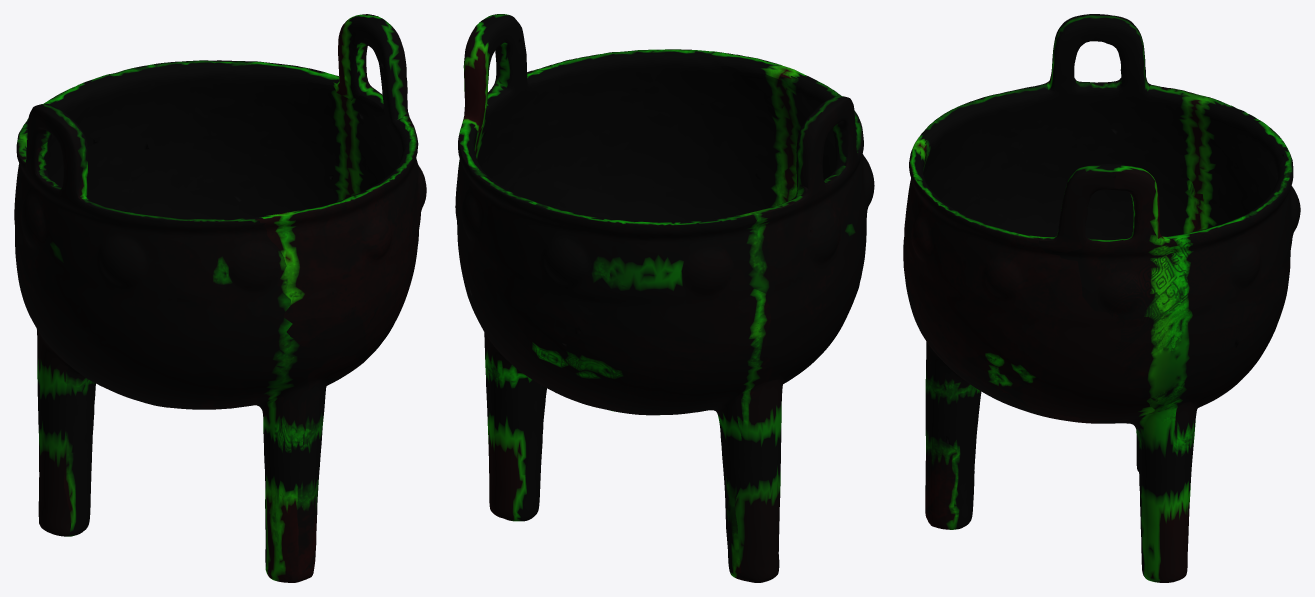
3 views of the same model, side by side, from view 1: azimuth 30°, elevation 25°; view 2: azimuth 150°, elevation 25°; view 3: azimuth 270°, elevation 25° (orthographic). The views are drawn at different scales.
Parts seen in each view (by area): view 1: ting_shang; view 2: ting_shang; view 3: ting_shang.
Boxes of the visible parts, x1,y1,x2,y2 form: ting_shang: (14,14,426,582); ting_shang: (455,14,874,582); ting_shang: (903,14,1300,582).
Size of the model in its own units: 0.2932 by 0.3567 by 0.2906.
1 material, 1 textured.
